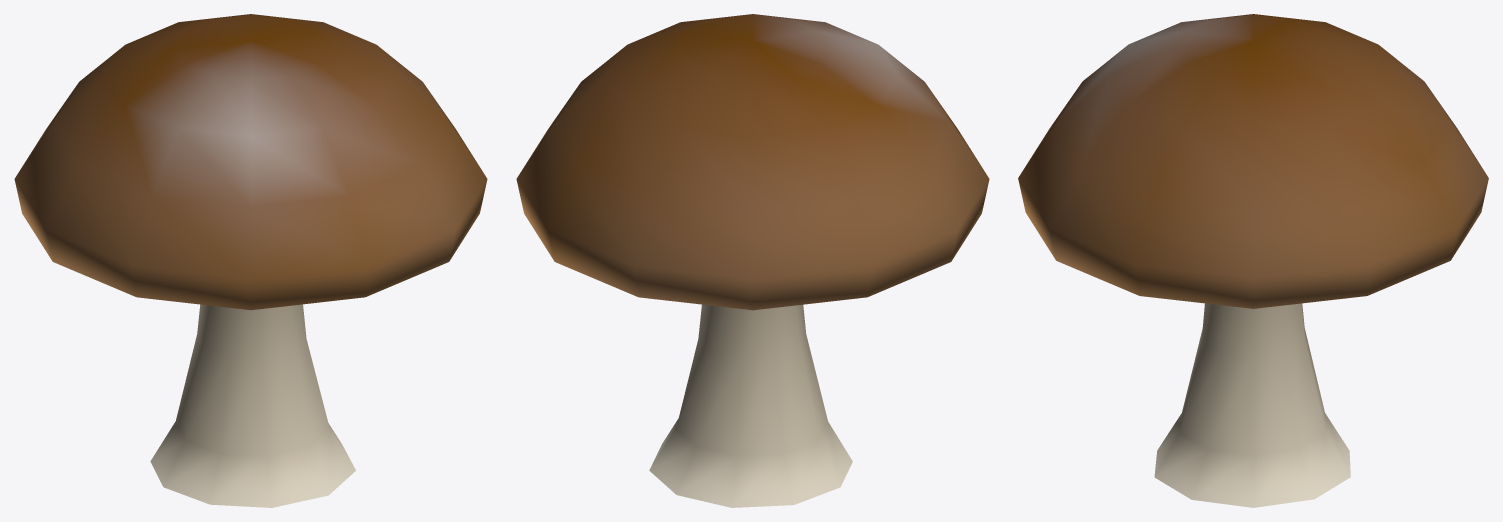
The model's file is food_mush_b.fbx.
3 views of the same model, side by side, from view 1: azimuth 30°, elevation 25°; view 2: azimuth 150°, elevation 25°; view 3: azimuth 270°, elevation 25° (orthographic).
Parts seen in each view (by area): view 1: food_mush_b; view 2: food_mush_b; view 3: food_mush_b.
Boxes of the visible parts, x1=… form: food_mush_b: x1=14, y1=14, x2=487, y2=507; food_mush_b: x1=516, y1=14, x2=989, y2=507; food_mush_b: x1=1018, y1=14, x2=1488, y2=507.
Bounding box in the file's own units: 124 × 123 × 124.
